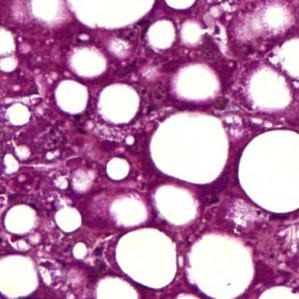steatosis: (110, 231, 183, 290)
